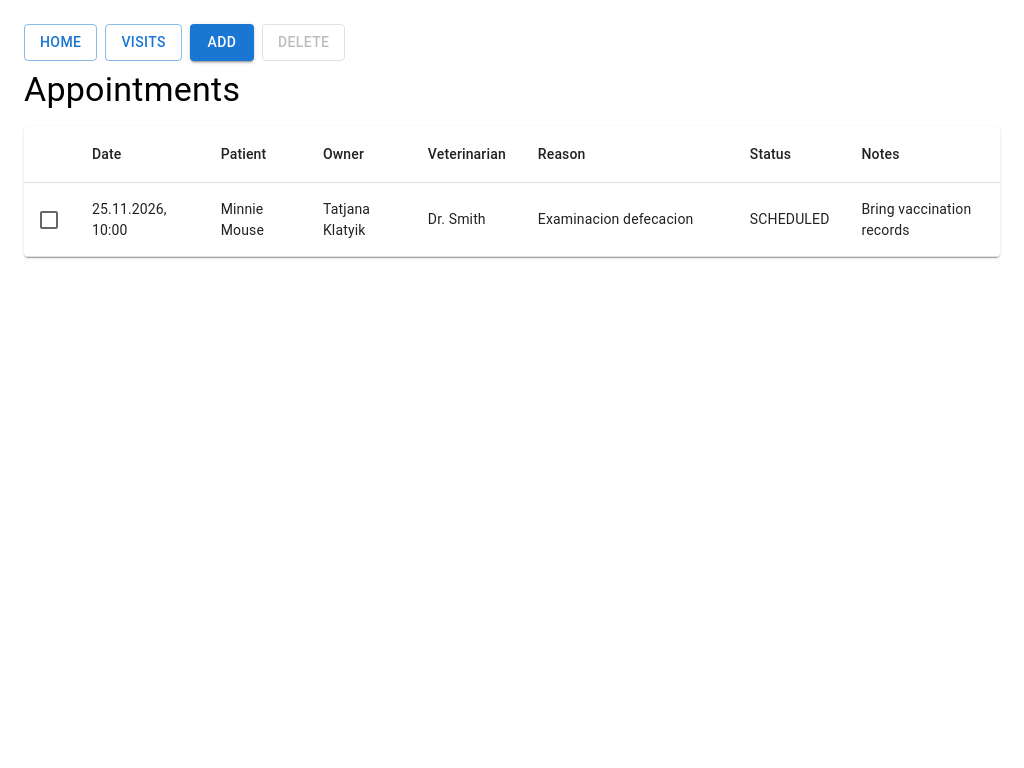
Scenario: AppointmentsPage › opens appointment details when a row is selected
Click the row named "Open appointment 1 details" at (512, 220), box [24, 183, 1000, 256]
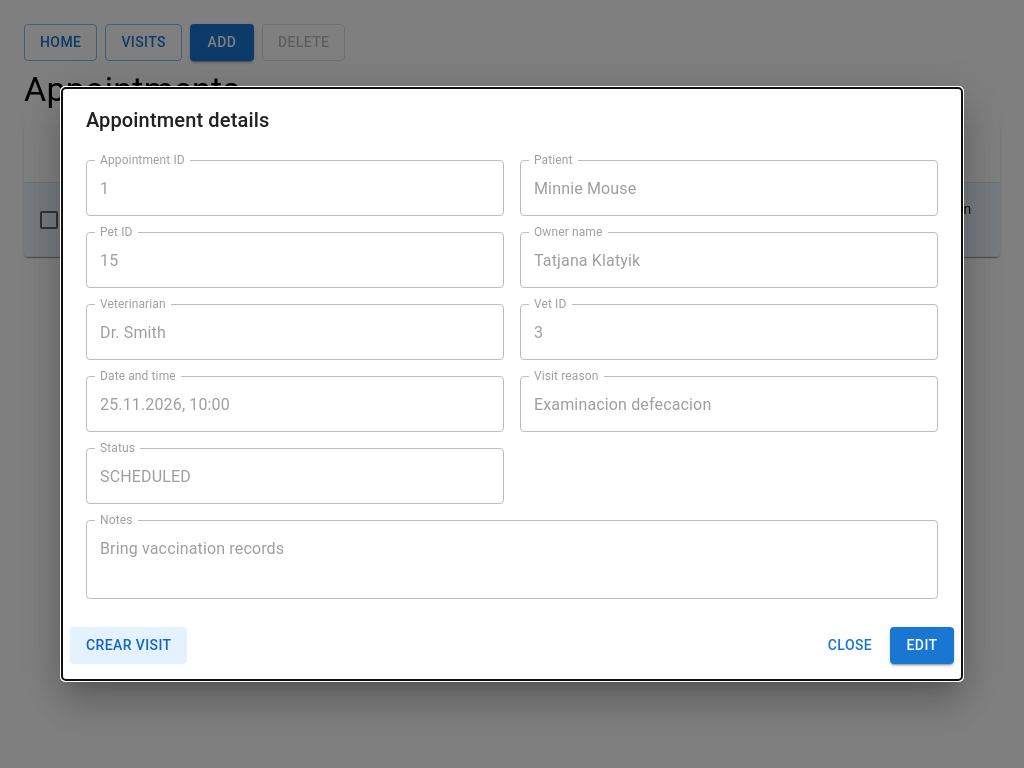
Check: the dialog "Appointment details" is shown
Check: the button "Edit" is shown, box [890, 627, 954, 664]
Check: the field labelled "Visit reason" holds "Examinacion defecacion", box [520, 376, 938, 432]
